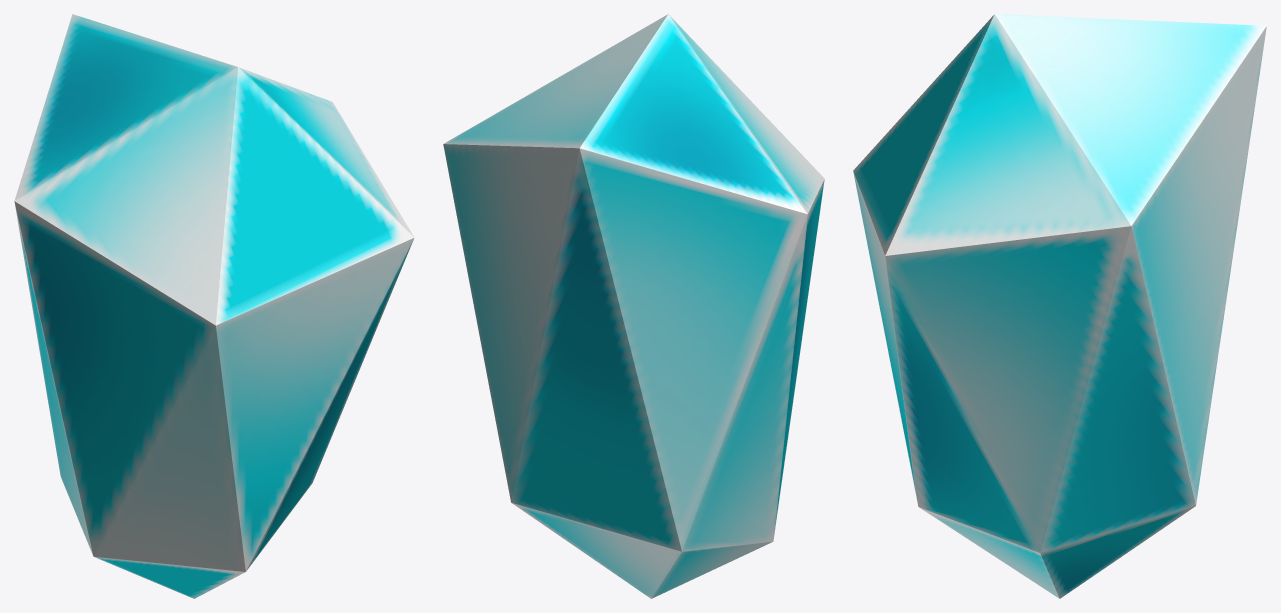
Rendered from item_012.fbx.
3 views of the same model, side by side, from view 1: azimuth 30°, elevation 25°; view 2: azimuth 150°, elevation 25°; view 3: azimuth 270°, elevation 25° (orthographic). The views are drawn at different scales.
Visible parts, largest first — view 1: item012; view 2: item012; view 3: item012.
Part boxes in pixels (x1,y1,x2,y2): item012: (14,14,414,598); item012: (443,14,824,598); item012: (853,14,1266,598).
Bounding box in the file's own units: 0.1861 × 0.2892 × 0.1832.
